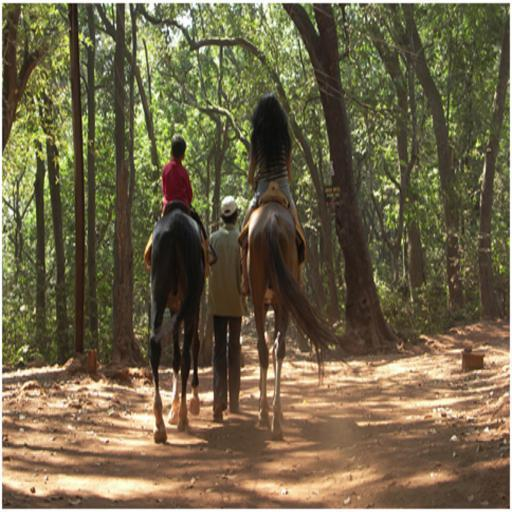horse: (239, 201, 362, 441), (146, 204, 208, 448)
